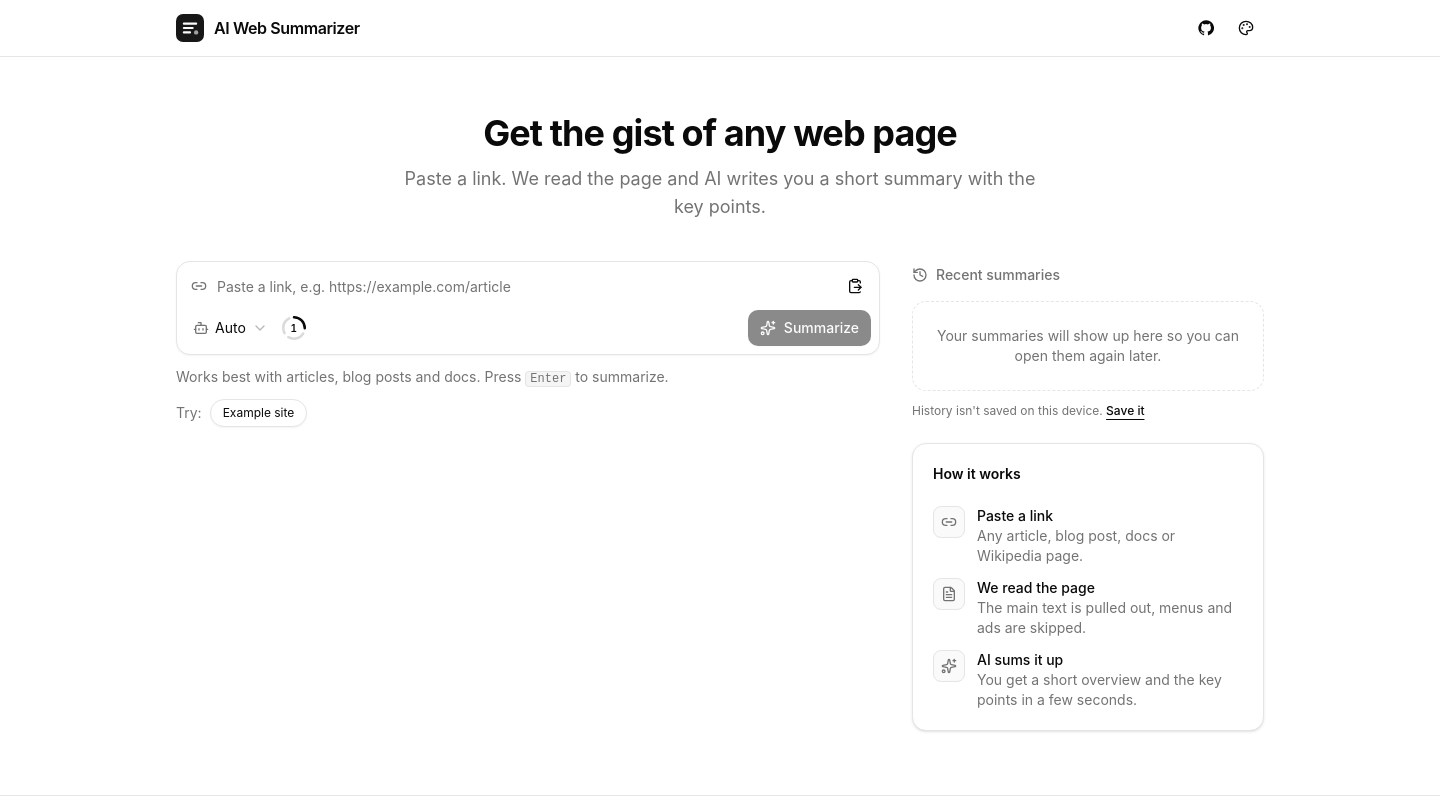
Test: daily usage › explains a daily limit error from the server
Expected: the picture named "summaries left" is shown, [282, 316, 306, 340]
Type "https://example.com/article" into the field named "Web page URL" at coordinates (528, 286), box [177, 262, 879, 310]
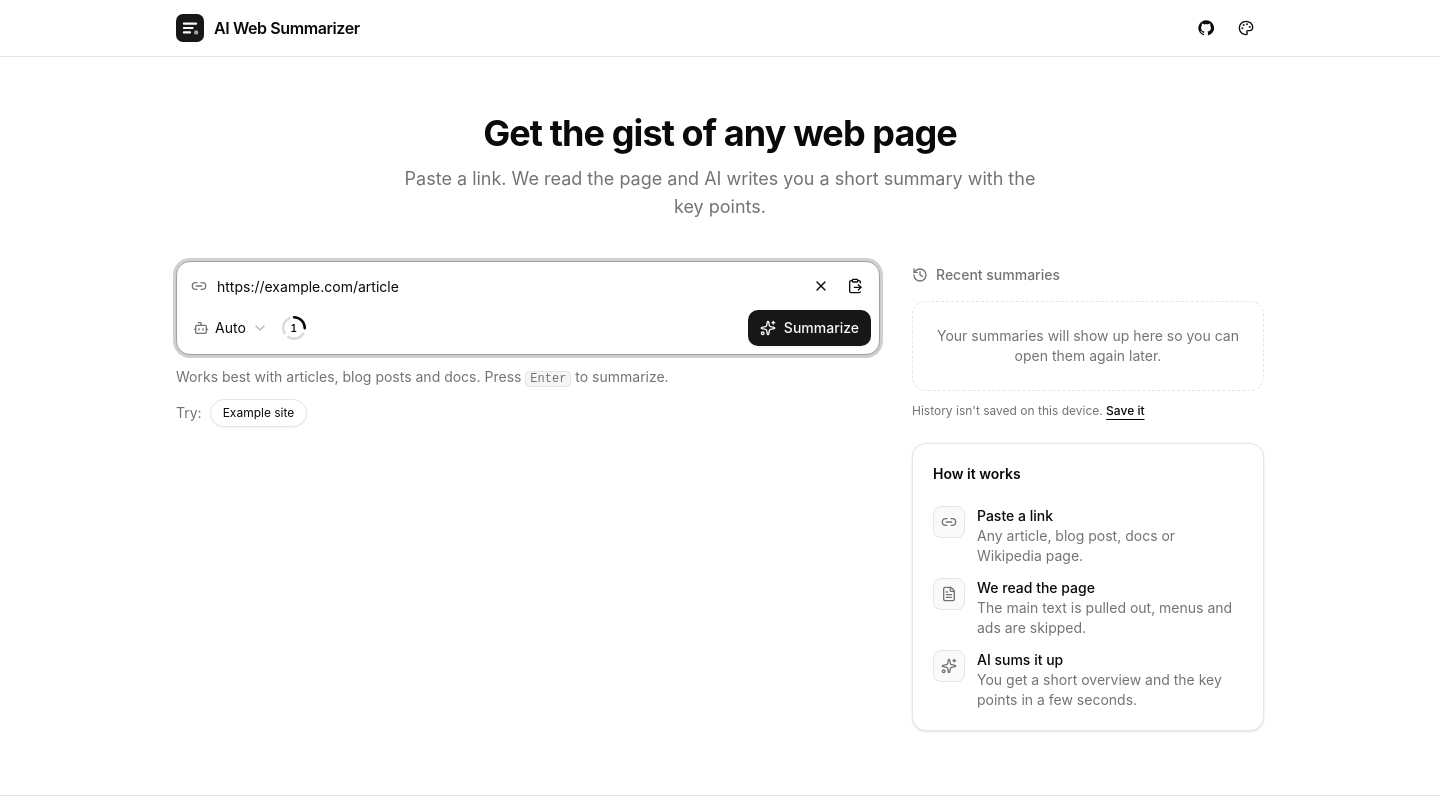
Click the button "Summarize" at coordinates (809, 328), box [748, 310, 871, 346]
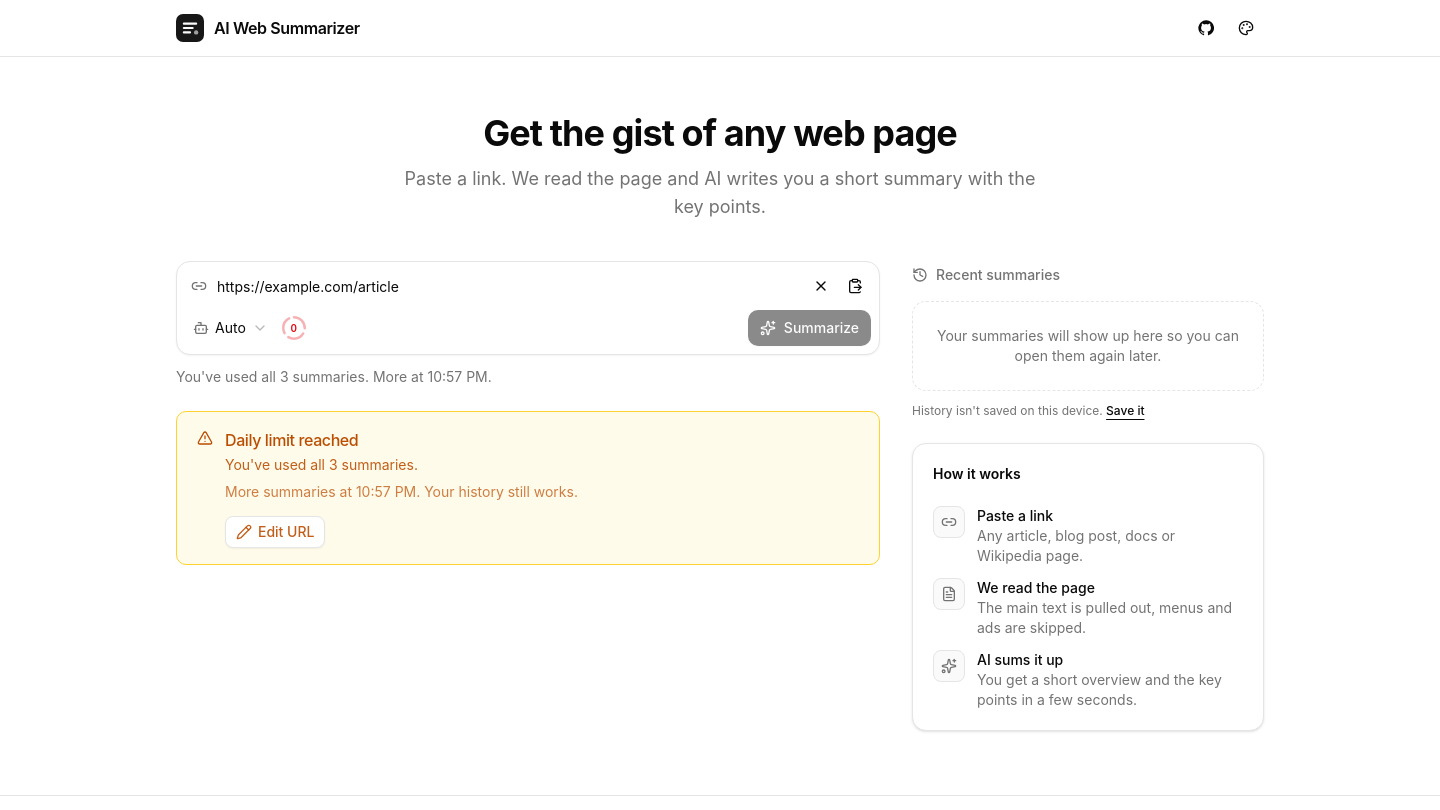
Now the text "Daily limit reached" is shown, box [225, 430, 358, 450]
Now the text "More summaries at 10:57 PM. Your history still works." is shown, box [225, 481, 578, 504]
